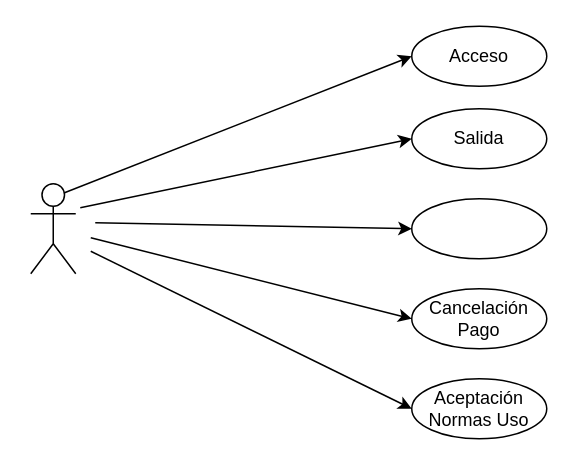
This 573x465 diagram has some shape labels left out. Each missing label, with the centre of its shape:
"Cliente" belongs at pixel 52 228.
"Pago" belongs at pixel 478 228.
